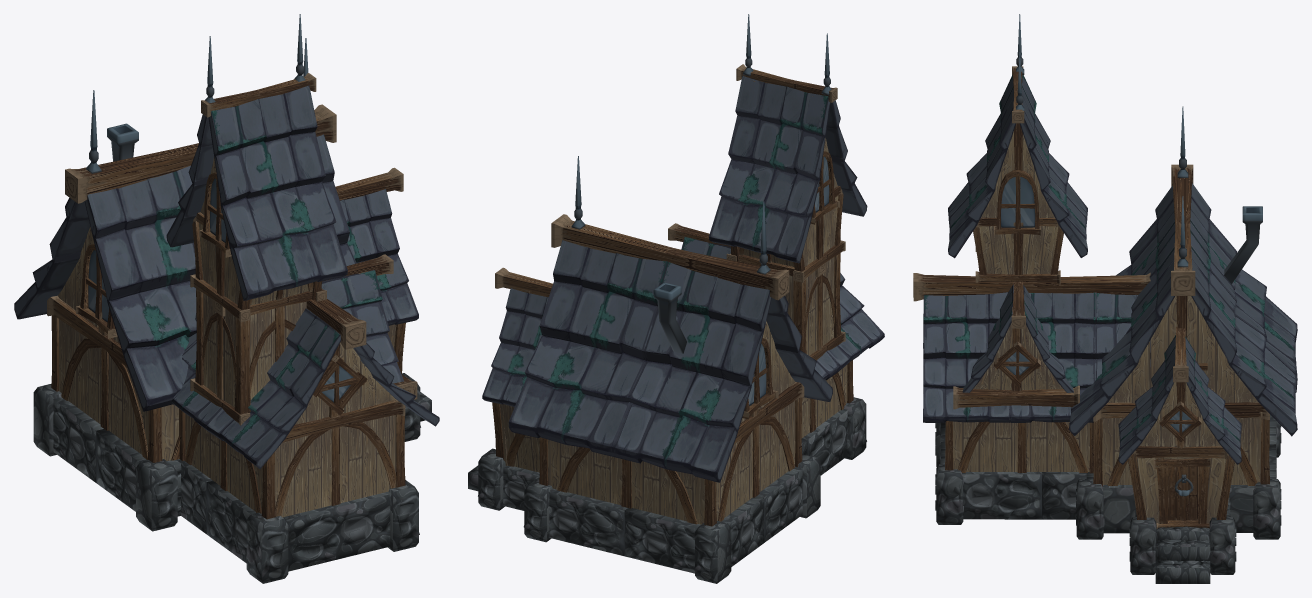
File: prop_town_house_2.glb
3 views of the same model, side by side, from view 1: azimuth 30°, elevation 25°; view 2: azimuth 150°, elevation 25°; view 3: azimuth 270°, elevation 25° (orthographic). The views are drawn at different scales.
Parts seen in each view (by area): view 1: obj_house_2; view 2: obj_house_2; view 3: obj_house_2.
Boxes of the visible parts, x1,y1,x2,y2 form: obj_house_2: [14, 14, 439, 583]; obj_house_2: [468, 14, 884, 583]; obj_house_2: [913, 14, 1297, 583].
Size of the model in its own units: 15.67 by 22.44 by 17.51.
5 materials, 5 textured.
